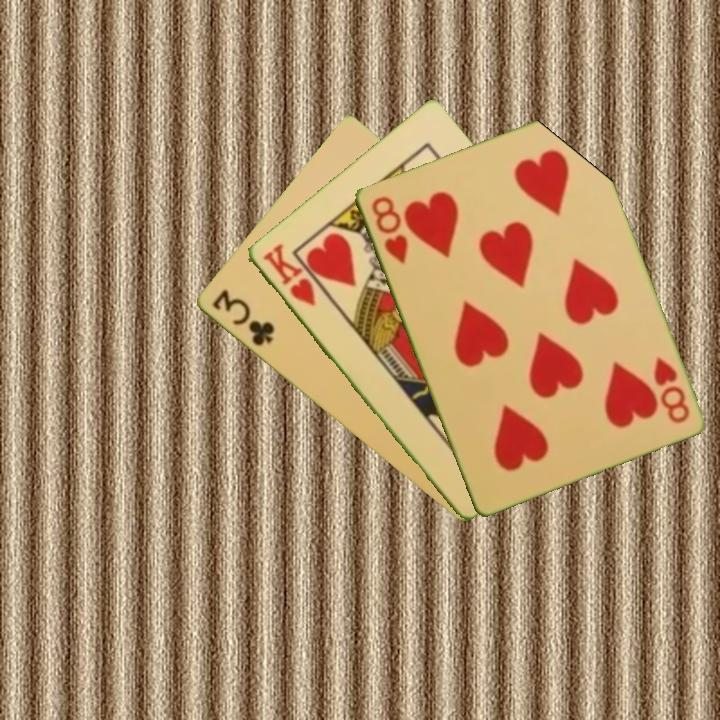3c: (208, 285, 277, 350)
8h: (367, 192, 411, 267), (649, 353, 692, 427)
Kh: (258, 240, 319, 309)
